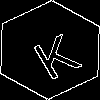K: (25, 25, 83, 81)
